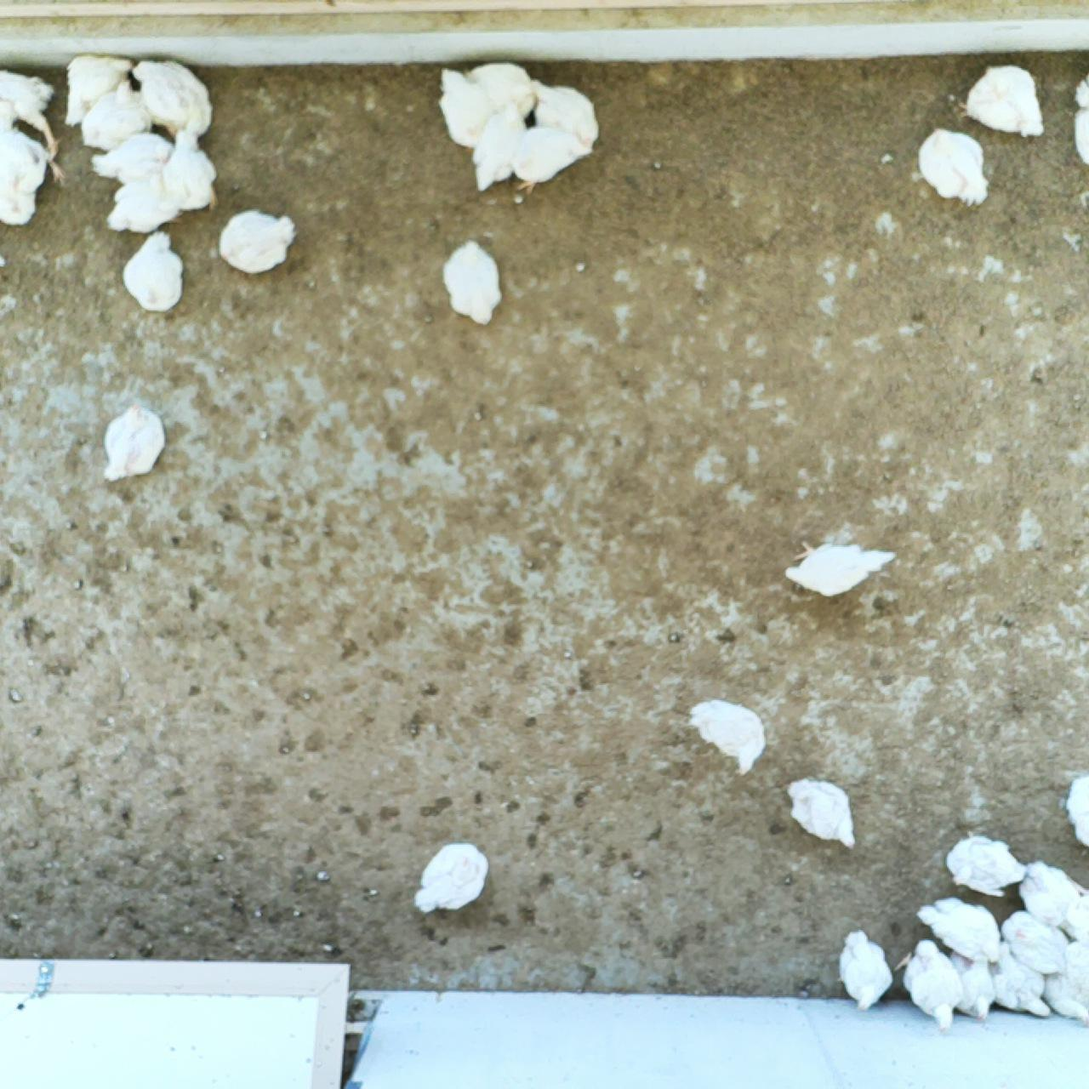chicken: (782, 534, 902, 603), (130, 55, 217, 142), (955, 59, 1048, 138), (913, 123, 995, 210), (0, 125, 67, 228), (686, 695, 769, 776), (437, 235, 507, 329), (893, 937, 958, 1037), (915, 893, 1004, 966), (0, 67, 66, 163), (527, 75, 604, 157), (119, 226, 188, 317), (410, 838, 492, 914), (507, 124, 589, 200), (468, 95, 530, 194), (100, 402, 171, 487), (942, 827, 1027, 898), (62, 50, 135, 131), (77, 76, 154, 151), (785, 774, 858, 852), (160, 126, 224, 214), (215, 208, 299, 275), (988, 936, 1054, 1021), (1000, 905, 1072, 977), (434, 62, 492, 150), (835, 928, 895, 1013), (104, 170, 178, 238), (90, 132, 176, 188), (1017, 856, 1082, 930), (465, 56, 537, 119), (947, 945, 999, 1024), (1041, 966, 1089, 1029), (1063, 68, 1089, 167), (1063, 771, 1089, 850), (1061, 888, 1089, 941), (1062, 935, 1089, 976)
